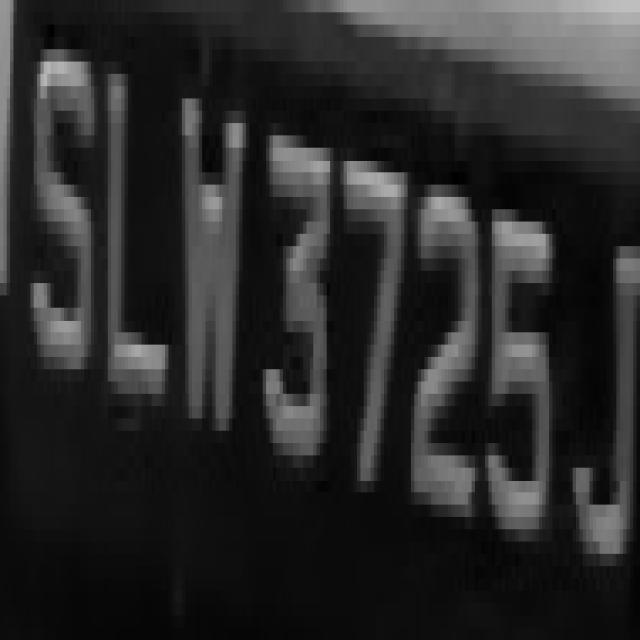2: (401, 148, 485, 566)
3: (262, 74, 344, 480)
5: (478, 160, 562, 554)
7: (330, 148, 414, 542)
J: (562, 160, 636, 591)
L: (98, 12, 178, 456)
S: (20, 24, 98, 393)
W: (168, 61, 250, 468)
